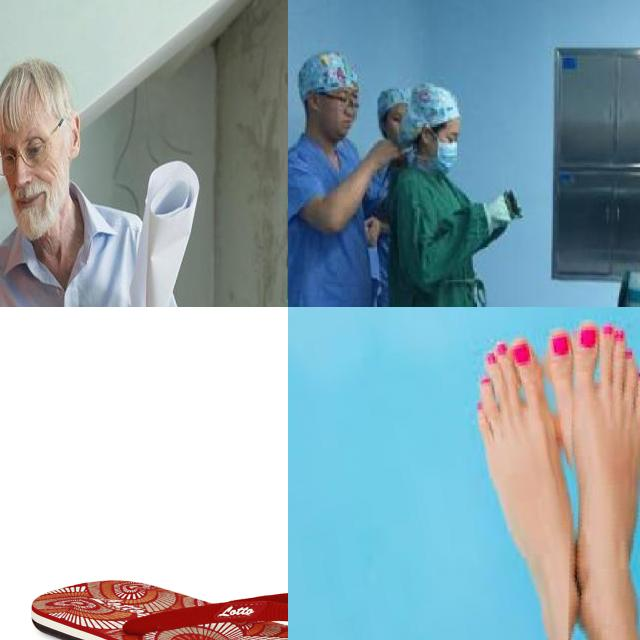Barefoots: (464, 325, 606, 640), (523, 307, 640, 640)
Sandals: (27, 578, 288, 640)
face_mask: (433, 121, 465, 169)
face_nomask: (0, 136, 54, 226), (325, 83, 359, 134)
glasses: (0, 137, 54, 179)
hand_glove: (487, 185, 514, 232)
hand_noglove: (372, 136, 401, 170), (362, 214, 379, 243)
head_nohelmet: (0, 58, 69, 130), (290, 42, 368, 98), (411, 80, 459, 129)
person: (0, 58, 197, 307), (390, 64, 527, 307), (288, 30, 380, 307)
